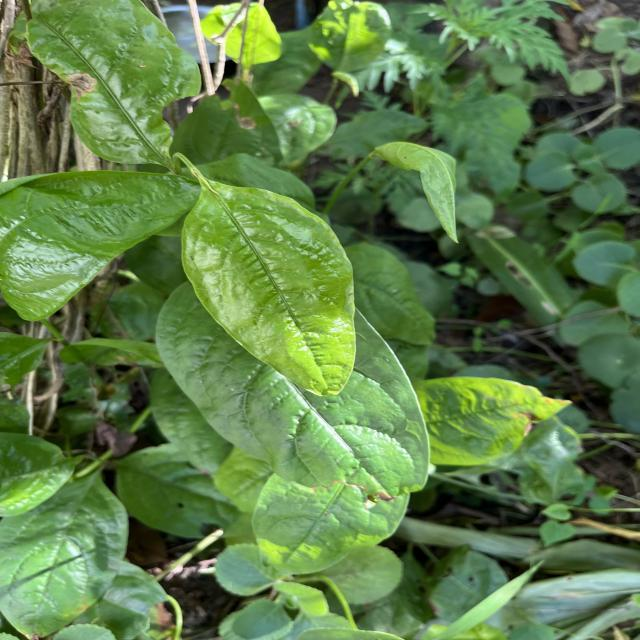Plumbago indica: (178, 178, 366, 404), (0, 166, 206, 326), (17, 0, 213, 166), (2, 462, 134, 640), (416, 374, 584, 469)
